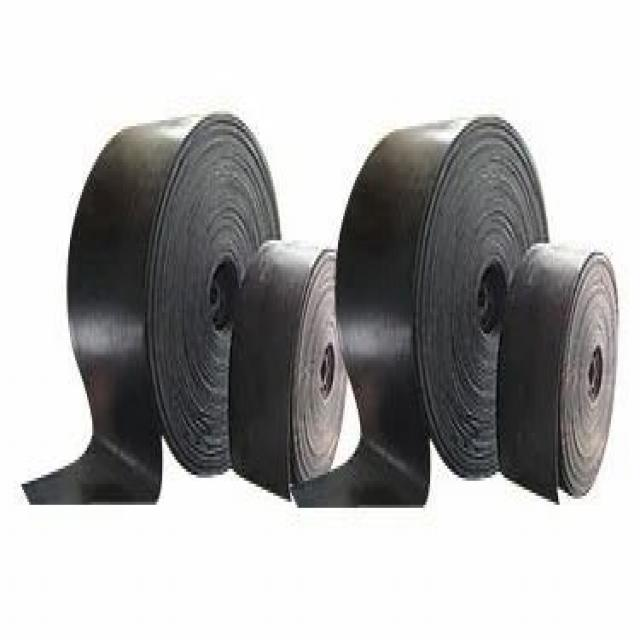convoyeur: (65, 112, 277, 538), (342, 106, 553, 504), (492, 248, 620, 512), (230, 237, 351, 504)
